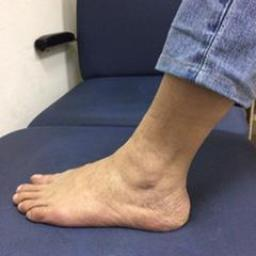Lateral View -Left Foot-: (6, 122, 209, 236)
